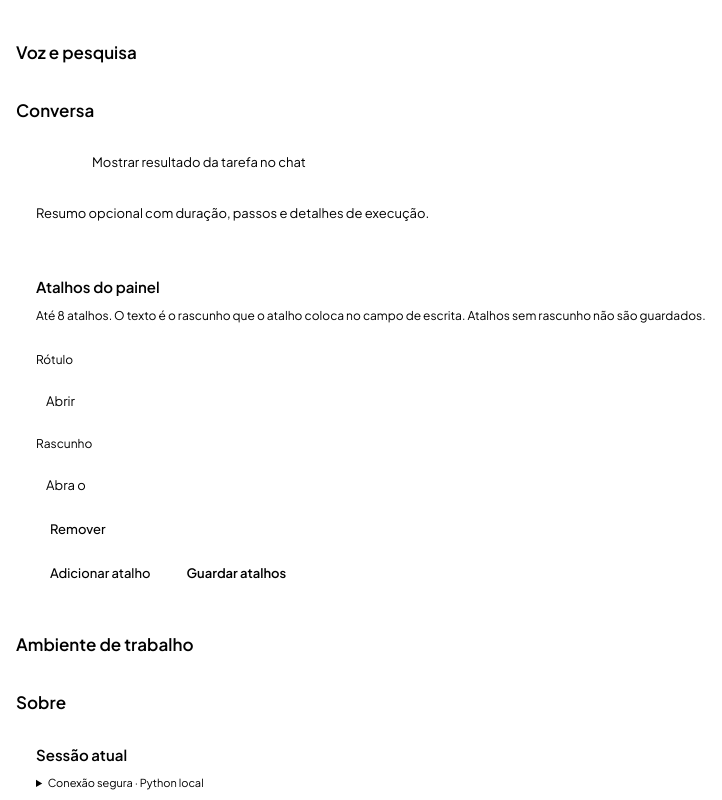
confiança nas Configurações › depois de gravar não volta a enviar ao sair
(page scrolled)
Step 1. Replace the text in the field with test id "action-label-0" with "Novo" → [236, 401], box [36,379,436,423]
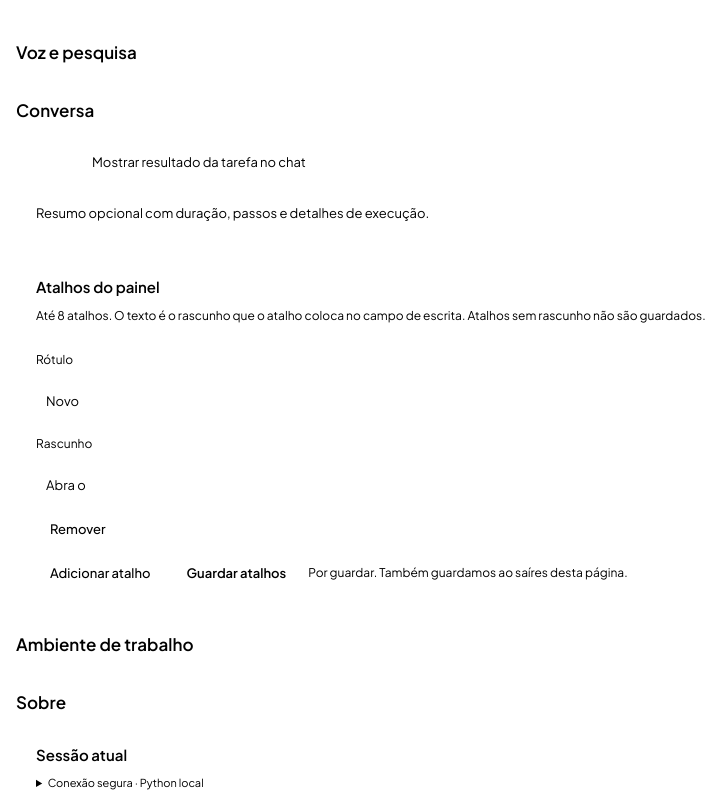
Step 2. Click the button with test id "save-preferences" → [236, 573], box [172,557,300,589]
(page scrolled)
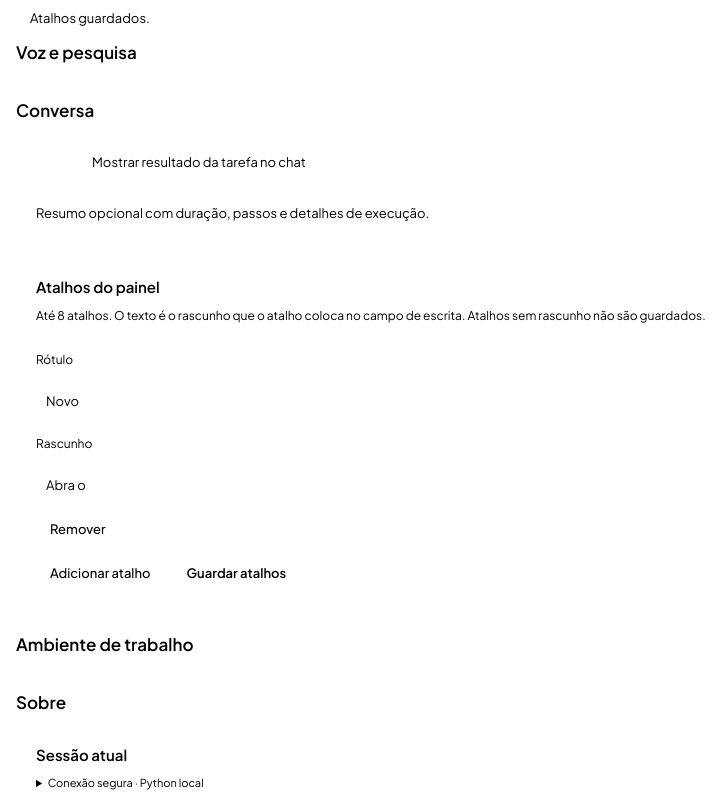
Expected: the text with test id "actions-dirty" is gone
